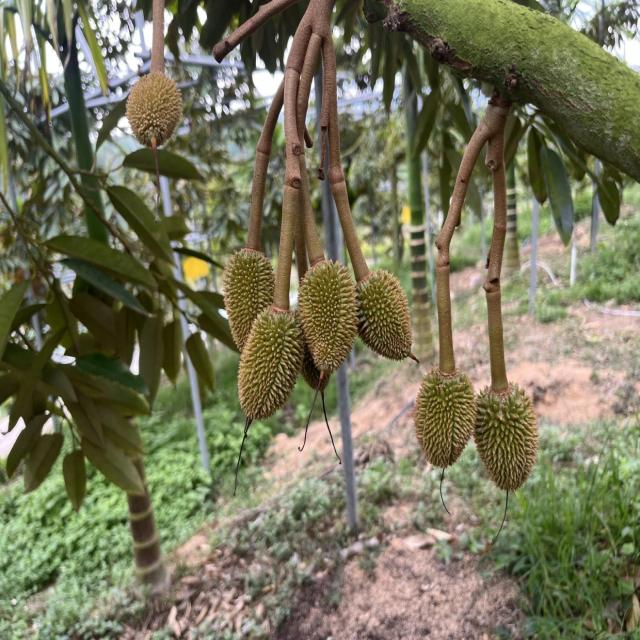immature: (240, 307, 307, 420), (300, 262, 361, 385), (474, 379, 540, 492), (414, 364, 477, 470), (220, 247, 276, 351), (354, 266, 412, 360), (126, 70, 182, 148)
